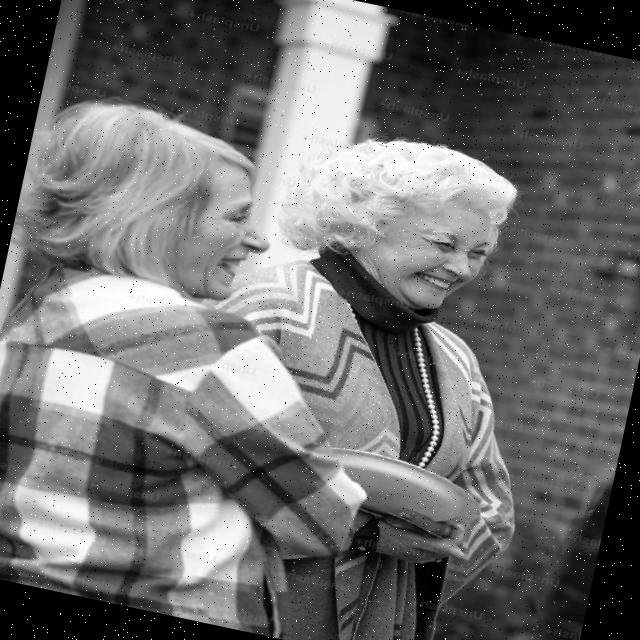Happiness: (162, 155, 284, 309), (366, 184, 500, 322)
